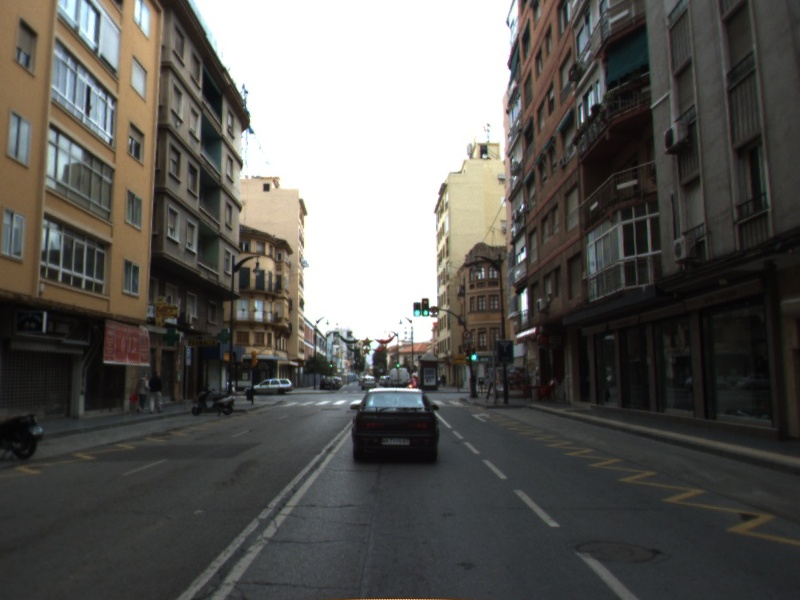RIGHT: (470, 411, 492, 424)
